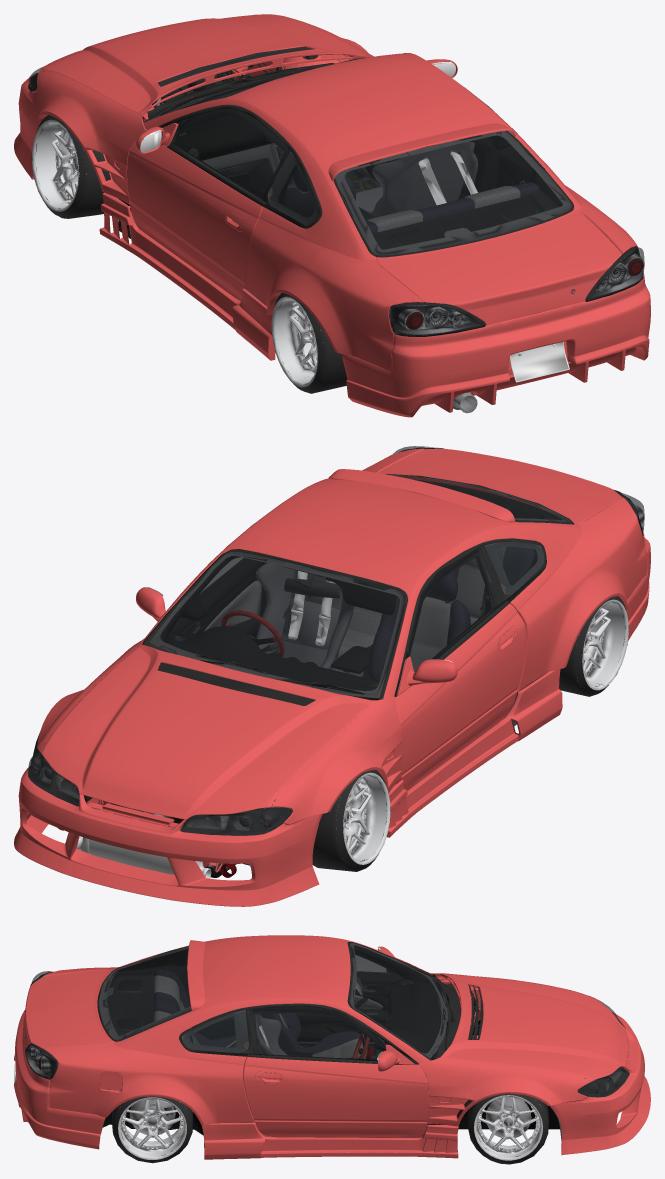
3 renders of one model, top to bottom at view 1: azimuth 30°, elevation 25°; view 2: azimuth 150°, elevation 25°; view 3: azimuth 270°, elevation 25°, orthographic. The views are drawn at different scales.
Visible parts, largest first — view 1: Body, Wheel_FL, Wheel_RL; view 2: Body, Wheel_FL, Wheel_RL, SteeringWheel; view 3: Body, Wheel_FR, Wheel_RR.
Part boxes in pixels (x1,y1,x2,y2): Body: (14, 14, 650, 417); Wheel_FL: (31, 115, 110, 218); Wheel_RL: (271, 293, 347, 393); Body: (14, 446, 650, 906); Wheel_FL: (312, 770, 390, 871); Wheel_RL: (559, 596, 628, 696); SteeringWheel: (221, 610, 284, 656); Body: (14, 935, 650, 1159); Wheel_FR: (468, 1093, 548, 1164); Wheel_RR: (112, 1096, 192, 1163).
Bounding box in the file's own units: 1.96 × 1.16 × 4.52.
39 materials, 20 textured.
